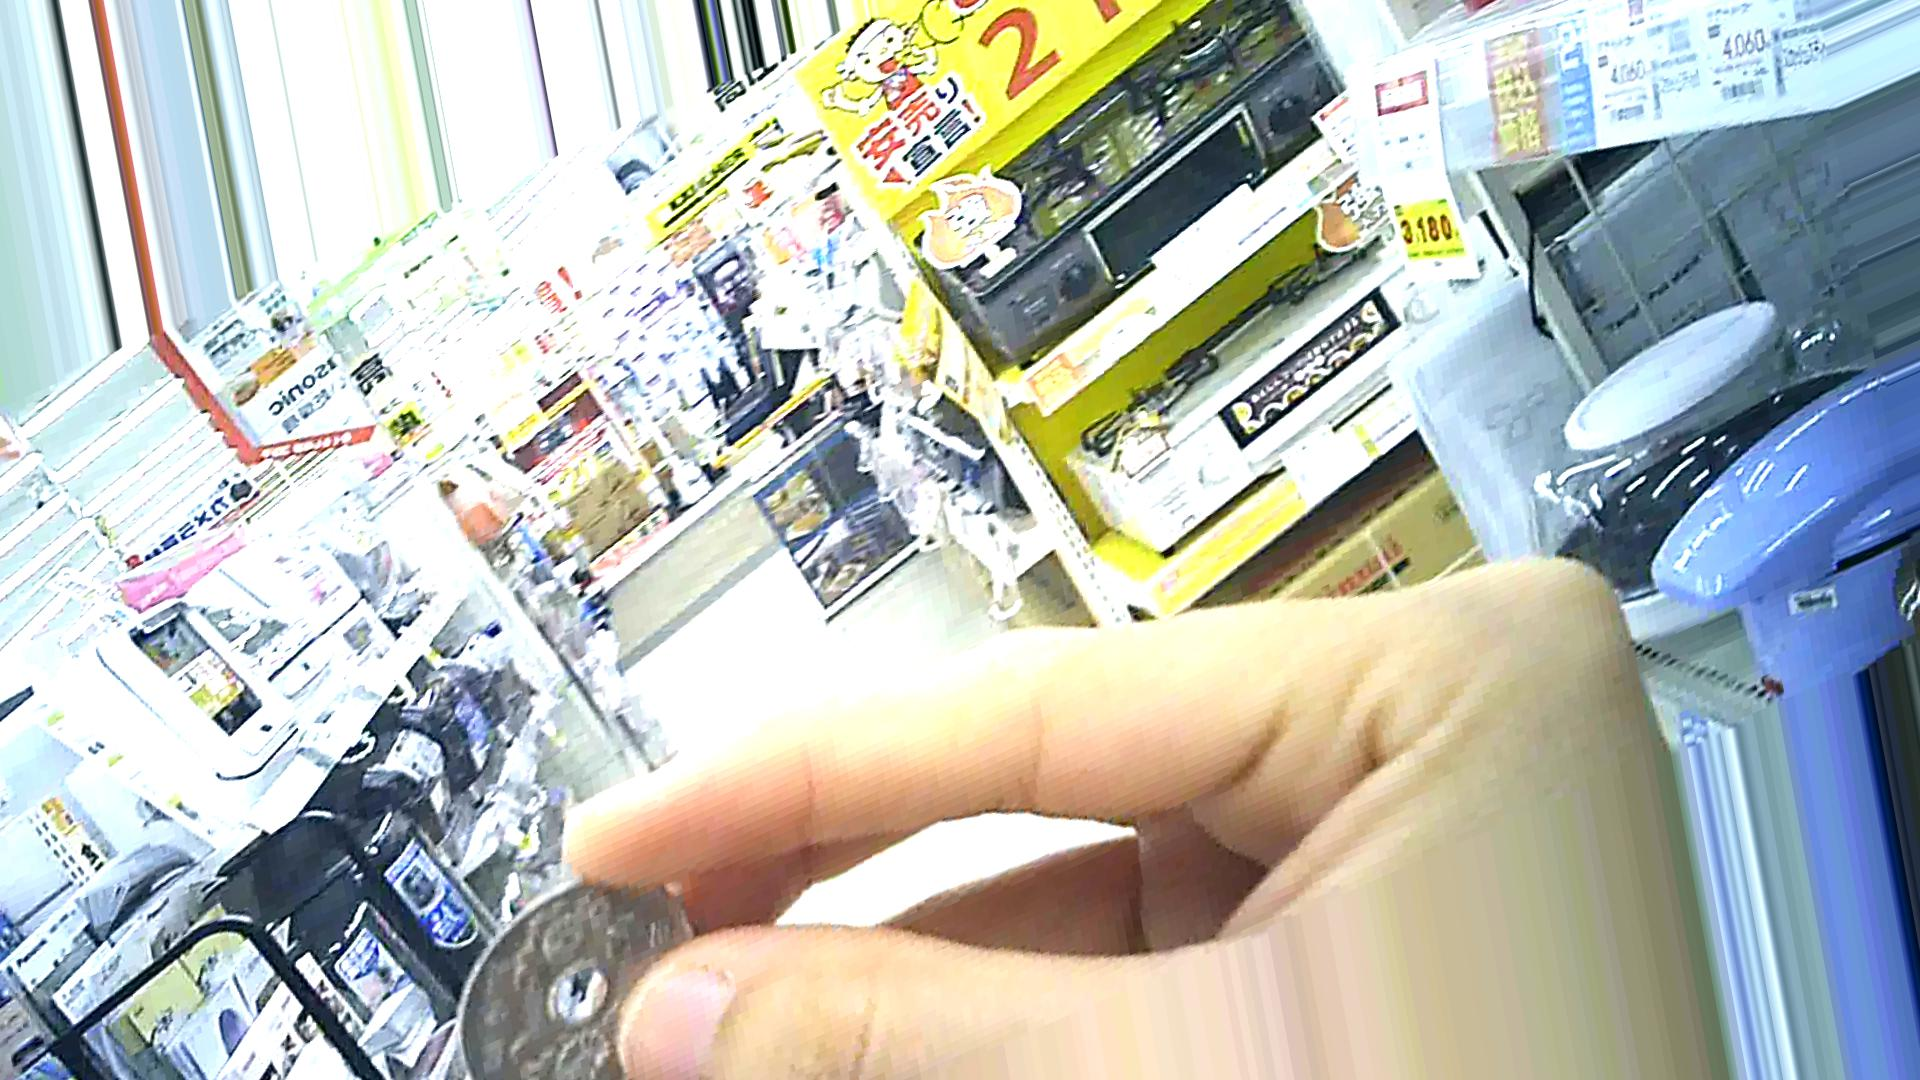50 Yen: (454, 852, 738, 1079)
